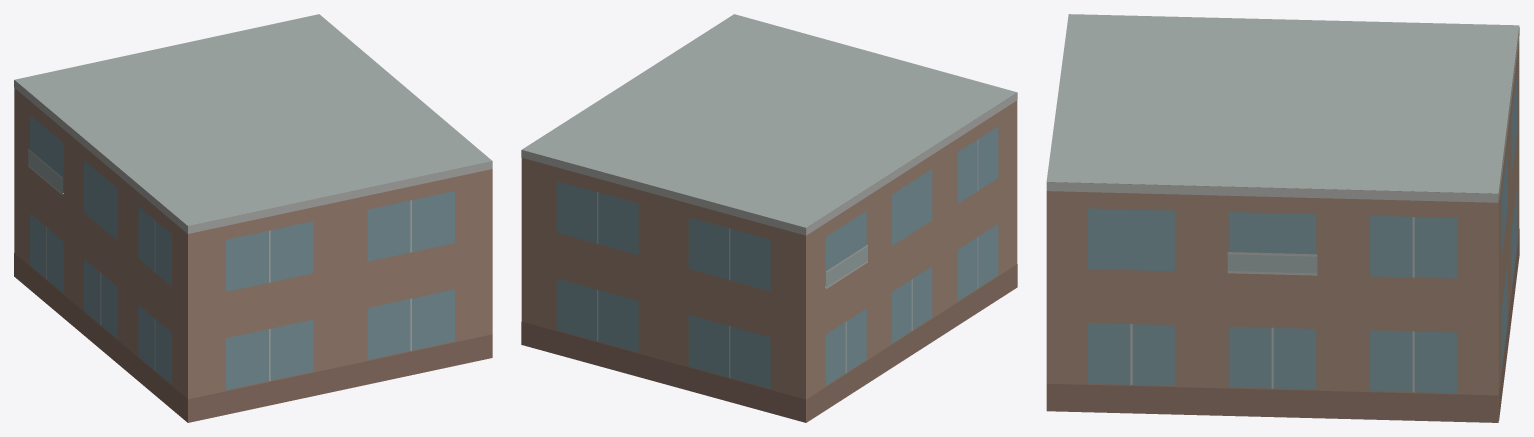
The model's file is survey-upis-32817133.glb.
3 renders of one model, left to right at view 1: azimuth 30°, elevation 25°; view 2: azimuth 150°, elevation 25°; view 3: azimuth 270°, elevation 25°, orthographic. The views are drawn at different scales.
Parts seen in each view (by area): view 1: survey-upis-32817133.tmp; view 2: survey-upis-32817133.tmp; view 3: survey-upis-32817133.tmp.
Boxes of the visible parts, x1,y1,x2,y2 form: survey-upis-32817133.tmp: (14, 14, 492, 422); survey-upis-32817133.tmp: (521, 14, 1017, 422); survey-upis-32817133.tmp: (1046, 14, 1519, 422).
Bounding box in the file's own units: 10.26 × 6.1 × 11.42.
